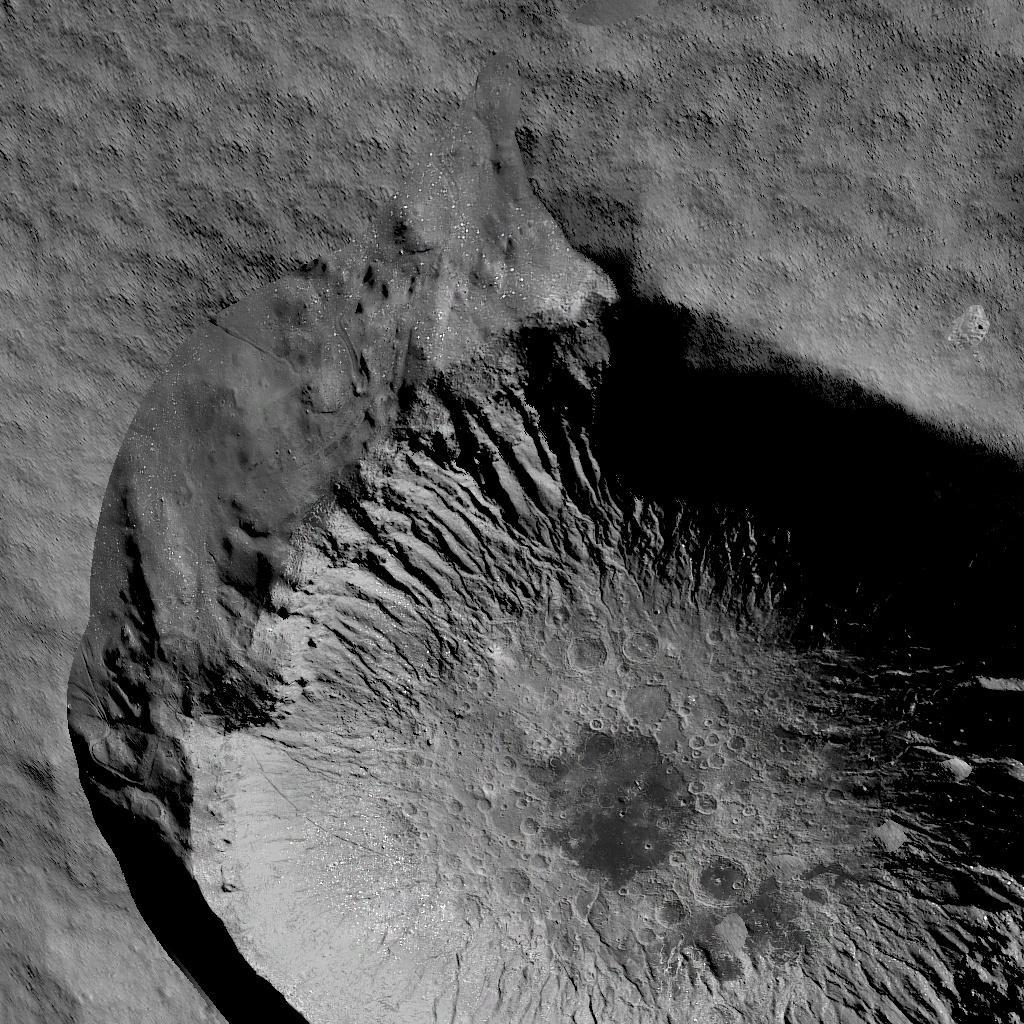Crater: (0, 150, 1024, 1020)
Plan surface: (14, 4, 1024, 118)
